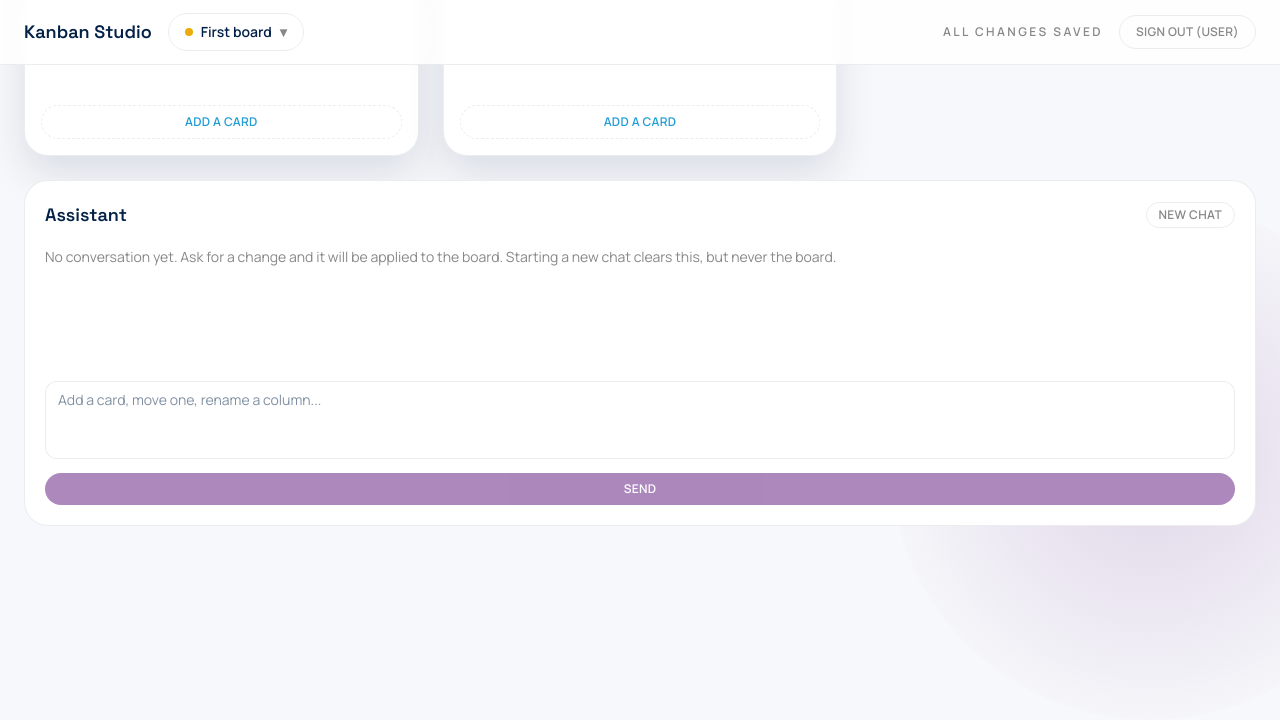
Test case: chat sidebar › shows warnings for operations that could not be applied
(page scrolled)
Expected: the heading "Kanban Studio" is shown, [24, 18, 152, 46]
Expected: the element with test id "chat-sidebar" is shown, [24, 180, 1256, 526]
Type "move something" into the text box named "Message" at (640, 420), box [45, 381, 1235, 459]
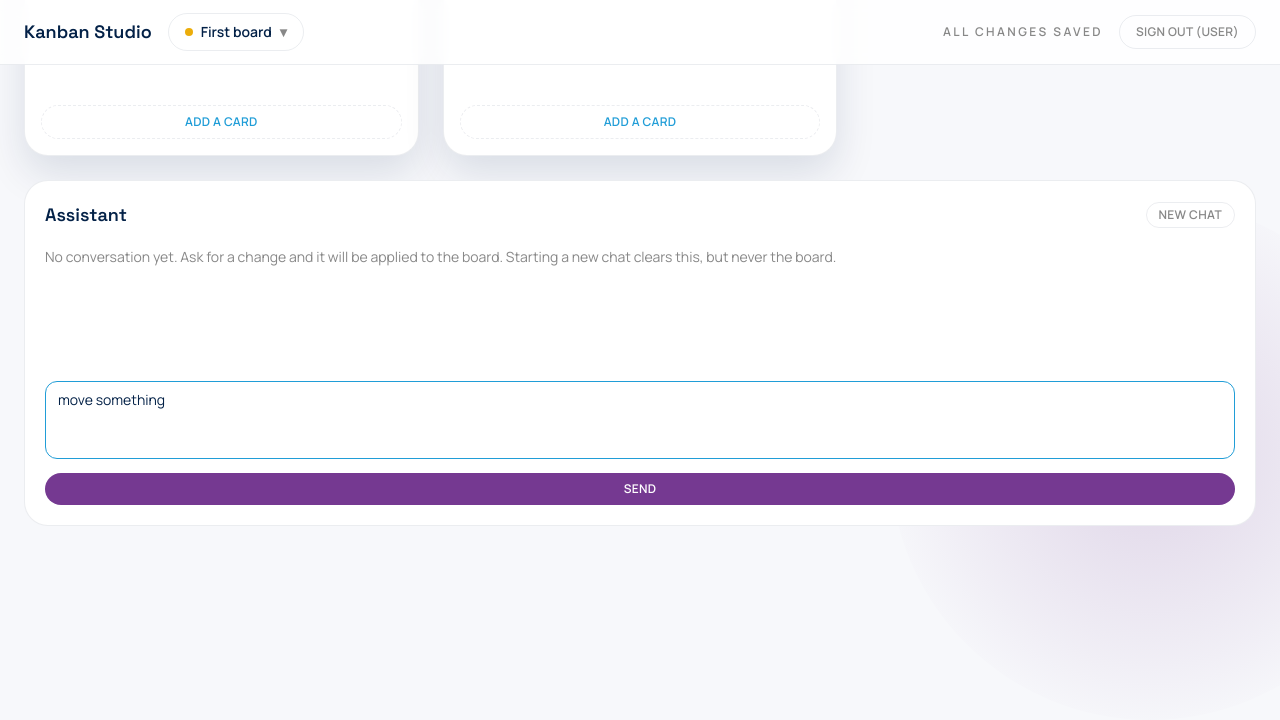
Click the button "Send" at (640, 489), box [45, 473, 1235, 505]
(page scrolled)
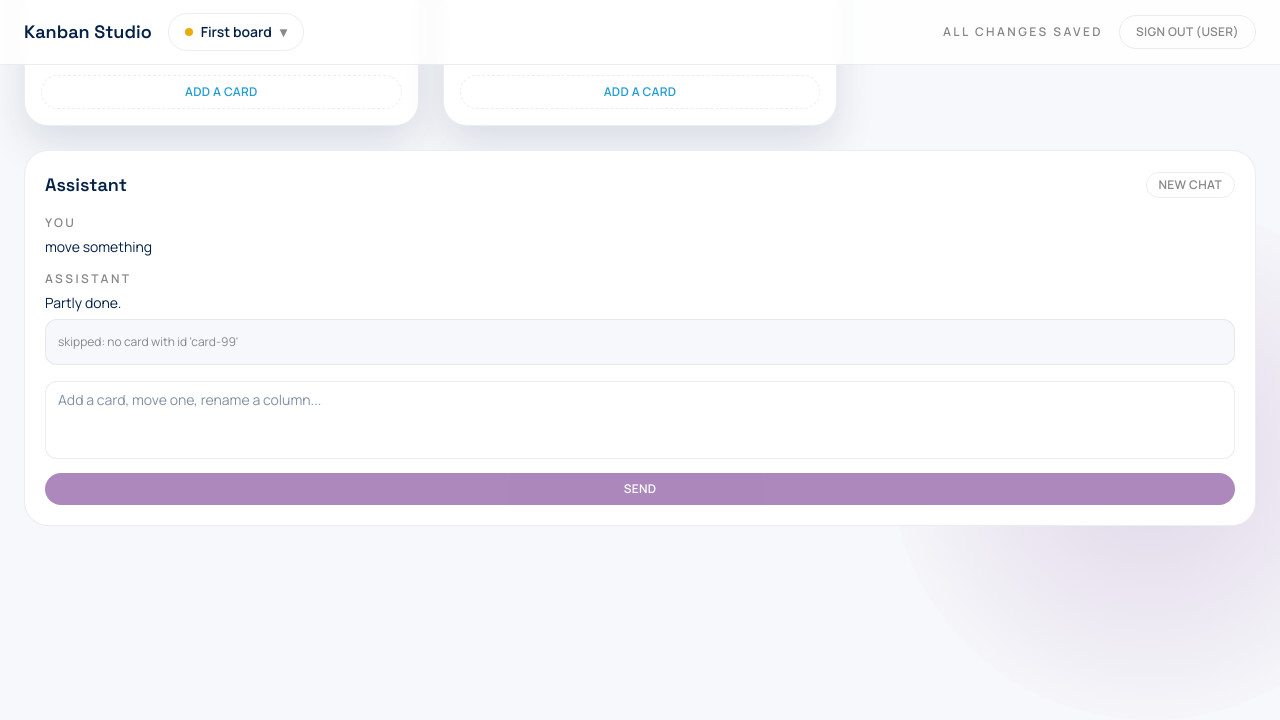
Expected: the list item "skipped: no card with id 'card-99'" is shown, [58, 333, 238, 350]
